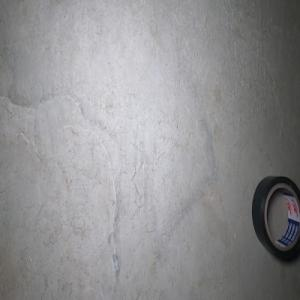Tape: (251, 175, 300, 261)
